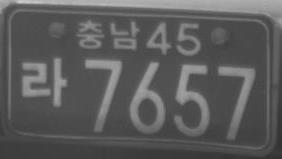4: (144, 20, 172, 56)
5: (171, 63, 212, 139), (174, 20, 202, 58)
6: (128, 60, 167, 136)
7: (216, 64, 257, 142), (82, 58, 123, 134)
라: (20, 56, 68, 108)
충남_O: (75, 18, 140, 50)
